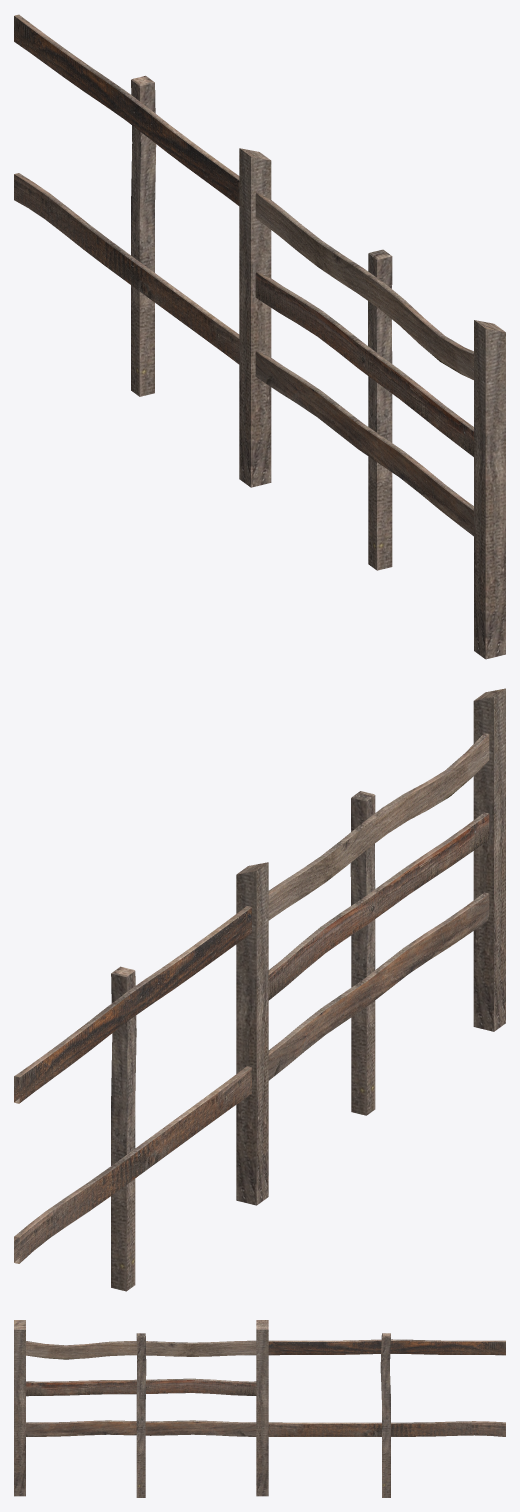
The model's file is fence2.fbx.
3 renders of one model, top to bottom at view 1: azimuth 30°, elevation 25°; view 2: azimuth 150°, elevation 25°; view 3: azimuth 270°, elevation 25°, orthographic. The views are drawn at different scales.
Parts seen in each view (by area): view 1: Fence without end.002; view 2: Fence without end.002; view 3: Fence without end.002.
Boxes of the visible parts, box(x1,y1,x2,y2) form: Fence without end.002: box(14, 14, 505, 659); Fence without end.002: box(14, 688, 505, 1291); Fence without end.002: box(14, 1320, 505, 1497).
Bounding box in the file's own units: 10.57 × 131 × 342.
Materials: 1 (1 with a texture image).
